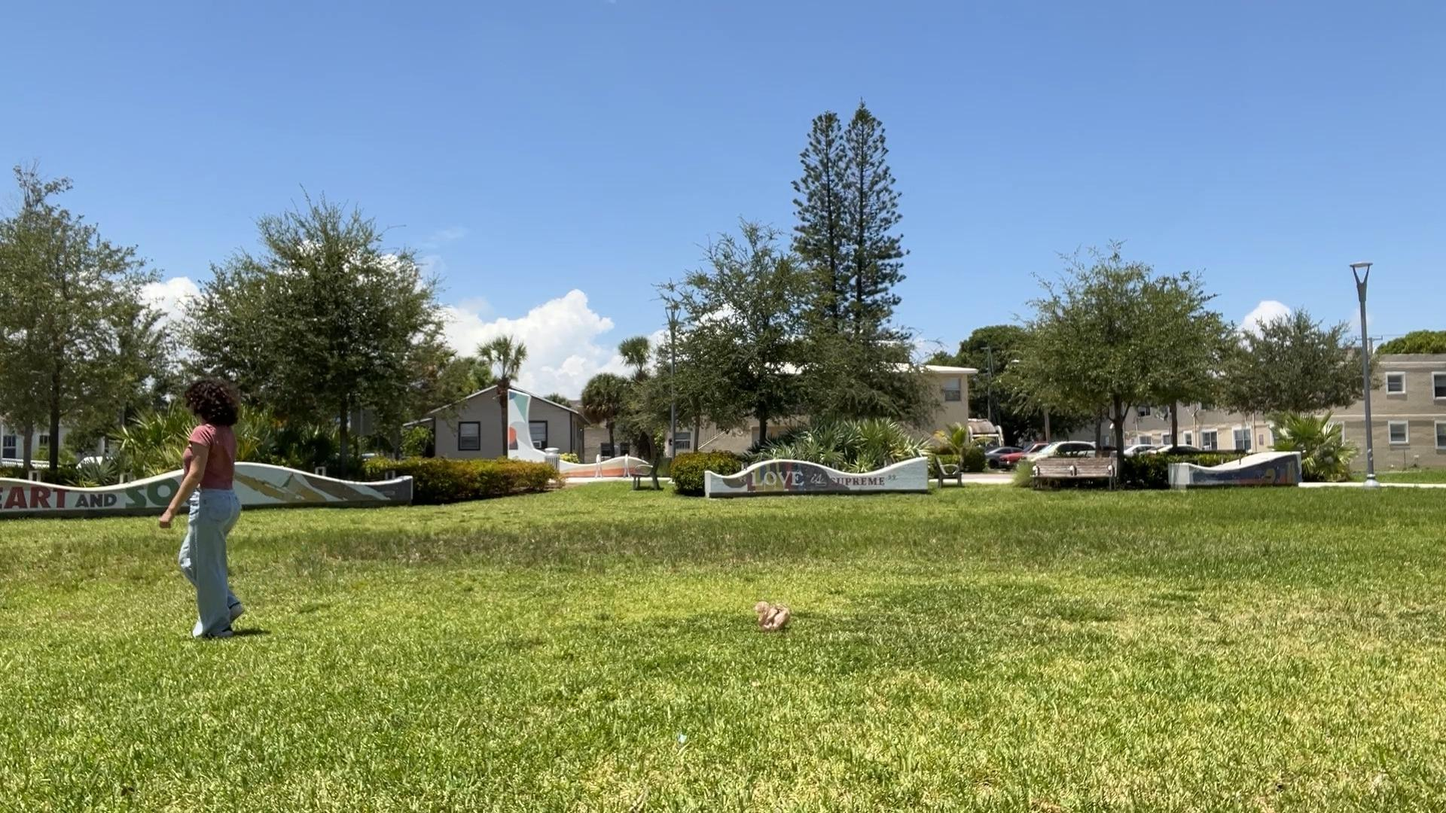Trash: (728, 595, 808, 643)
